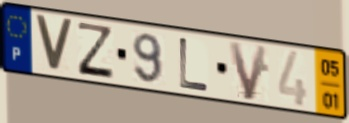4: (276, 48, 311, 110)
9: (130, 31, 167, 85)
L: (178, 35, 212, 94)
V: (226, 40, 271, 103), (32, 12, 76, 75)
Z: (76, 20, 116, 81)
